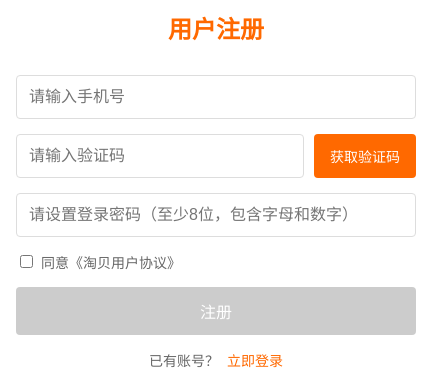
Test case: RegisterForm › 应该验证用户协议必须勾选
Type "13800138000" into the field with placeholder "请输入手机号".
click(216, 97); type("13800138000")  # box left=16, top=75, right=416, bottom=119
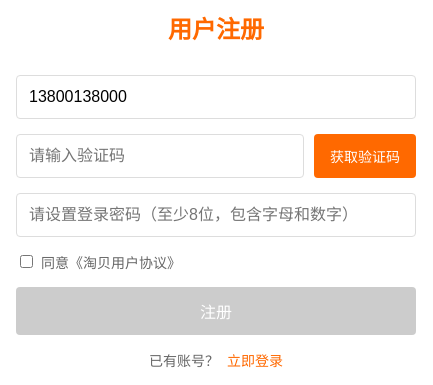
Type "123456" into the field with placeholder "请输入验证码".
click(160, 156); type("123456")  # box left=16, top=134, right=304, bottom=178
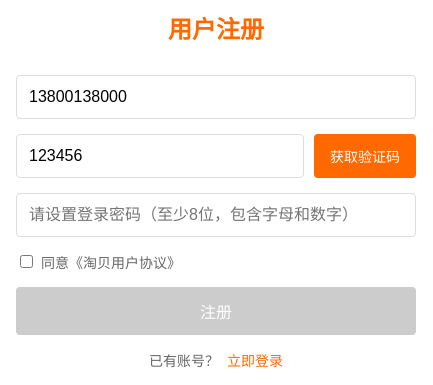
Type "password123" into the password field with placeholder "请设置登录密码（至少8位，包含字母和数字）".
click(216, 215); type("password123")  # box left=16, top=193, right=416, bottom=237
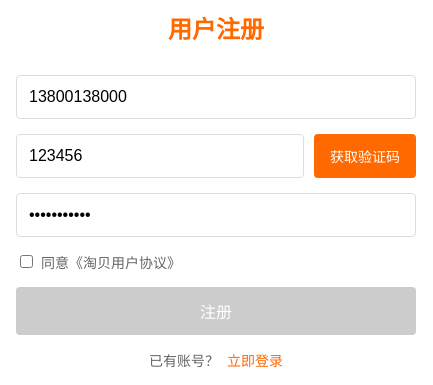
Expected: the button "注册" is disabled, left=16, top=287, right=416, bottom=335
勾选协议后可以注册
Click the checkbox.
click(26, 262)  # box left=20, top=255, right=33, bottom=268
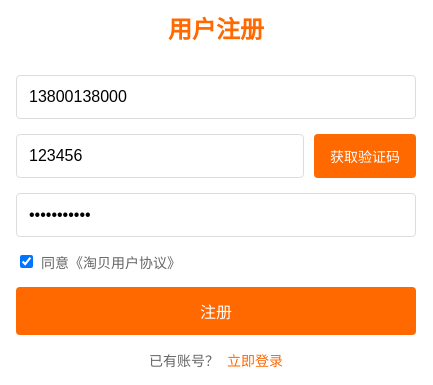
Expected: the button "注册" is enabled, left=16, top=287, right=416, bottom=335
